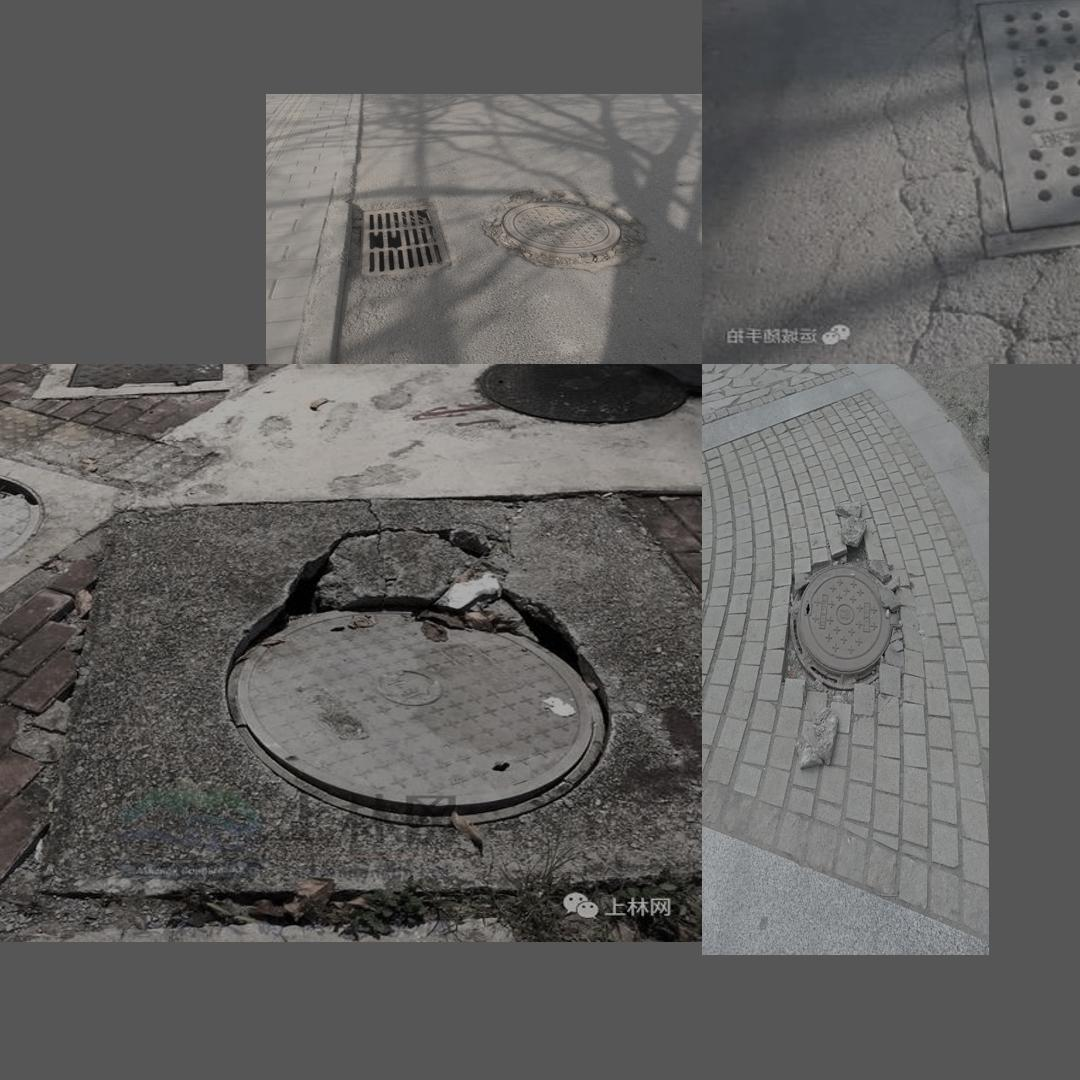circle: (26, 479, 697, 897), (867, 0, 1080, 334), (770, 528, 919, 718), (477, 181, 647, 275)
